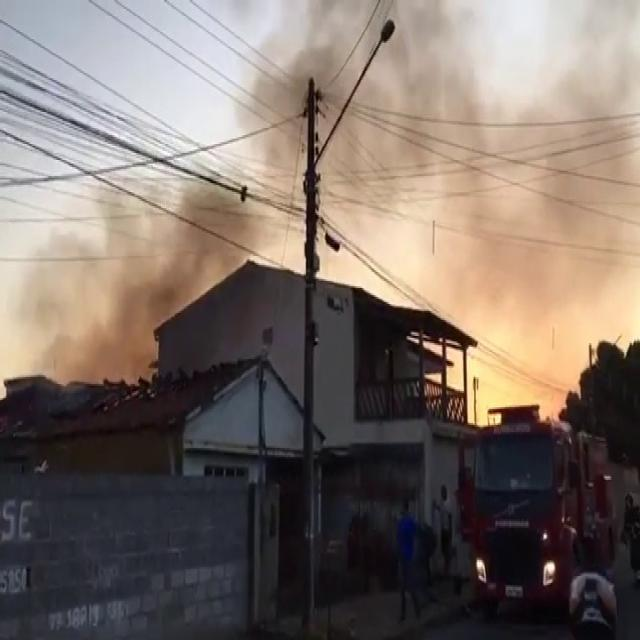Smoke: (0, 88, 258, 420), (437, 82, 640, 416), (251, 3, 496, 245)
